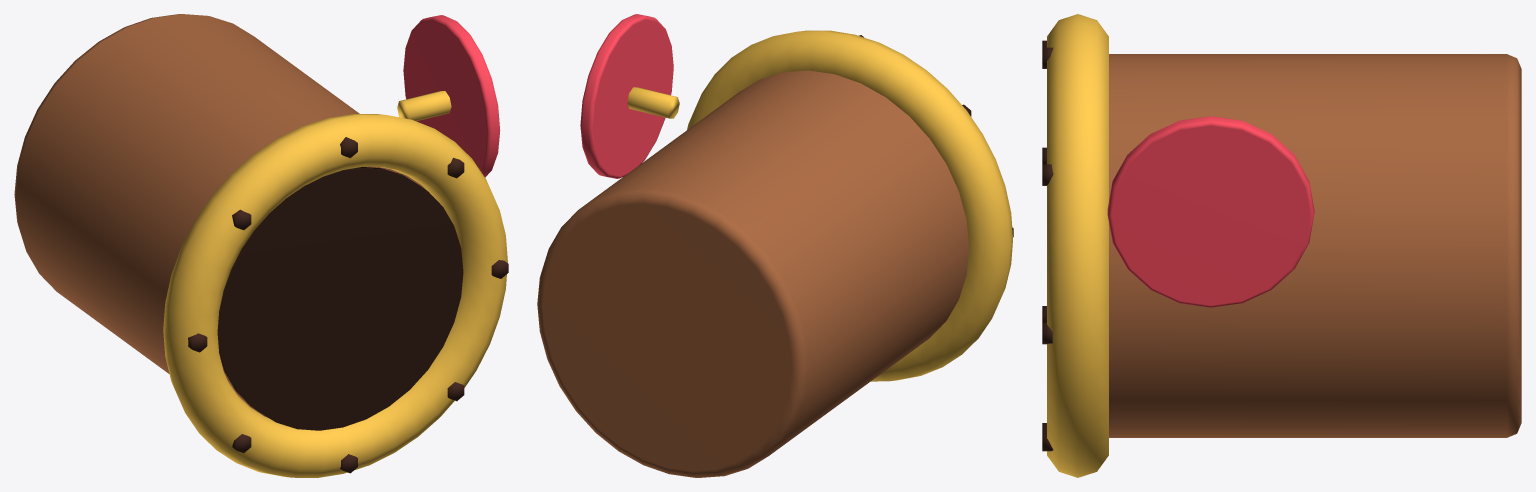
Rendered from candy_spout.glb.
The picture shows the model from 3 angles, left to right: view 1: azimuth 30°, elevation 25°; view 2: azimuth 150°, elevation 25°; view 3: azimuth 270°, elevation 25°; orthographic projection. The views are drawn at different scales.
Visible parts, largest first — view 1: Spout; view 2: Spout; view 3: Spout.
Boxes of the visible parts, box(x1,y1,x2,y2) form: Spout: box(14, 14, 508, 477); Spout: box(537, 14, 1013, 477); Spout: box(1042, 14, 1521, 477).
Size of the model in its own units: 3.23 by 3.27 by 3.24.
